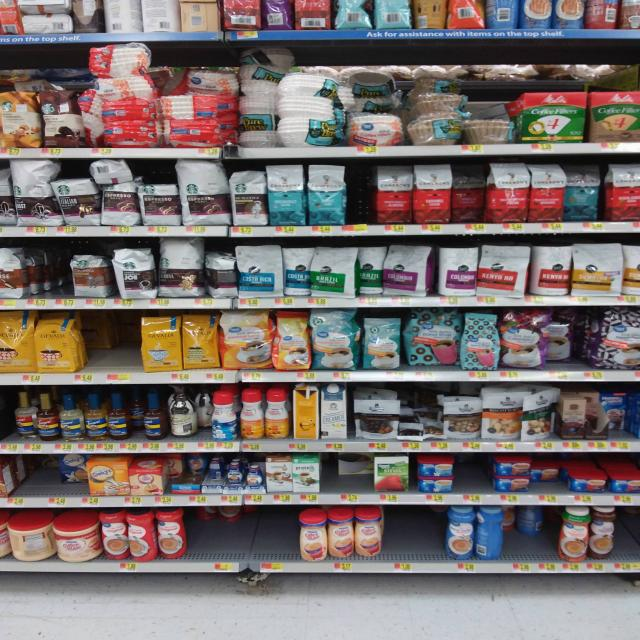empty: (247, 502, 296, 569), (387, 506, 443, 557), (347, 160, 377, 223), (451, 457, 500, 495)
